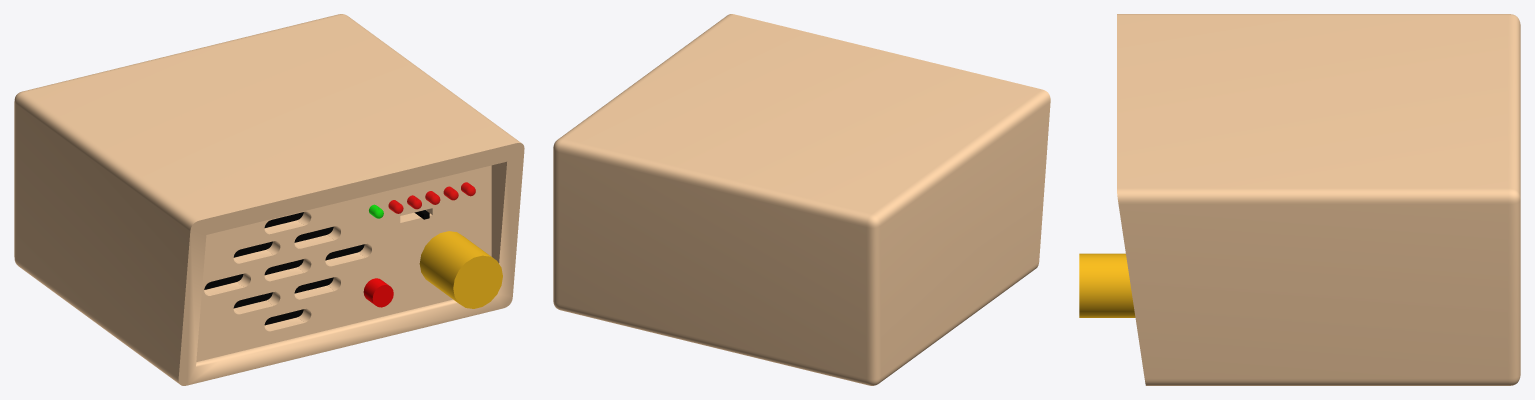
Rendered from timingPrompter.FBX.
3 views of the same model, side by side, from view 1: azimuth 30°, elevation 25°; view 2: azimuth 150°, elevation 25°; view 3: azimuth 270°, elevation 25° (orthographic). The views are drawn at different scales.
Visible parts, largest first — view 1: Box001, Cylinder002, Box002, Cylinder001; view 2: Box001; view 3: Box001, Cylinder002.
Part boxes in pixels (x1,y1,x2,y2): Box001: [14, 14, 524, 385]; Cylinder002: [419, 231, 502, 308]; Box002: [204, 212, 364, 325]; Cylinder001: [363, 278, 393, 307]; Box001: [553, 14, 1050, 385]; Box001: [1117, 14, 1520, 385]; Cylinder002: [1079, 253, 1135, 317].
Size of the model in its own units: 100 by 50 by 102.
